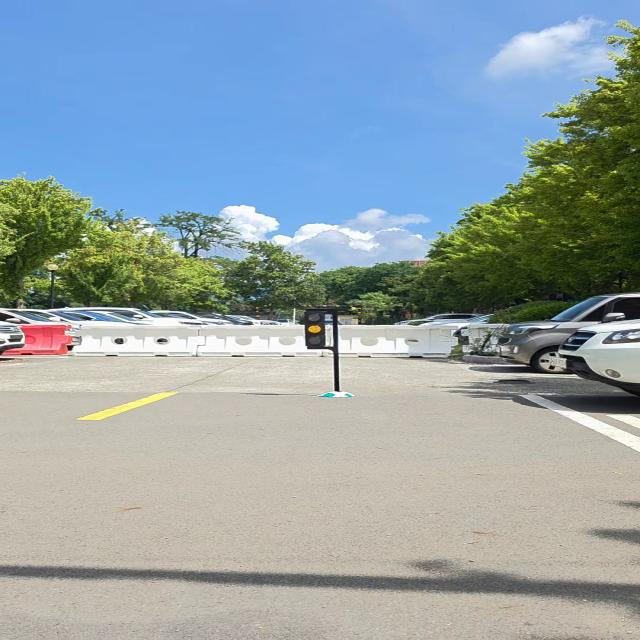yellow: (303, 311, 326, 348)
